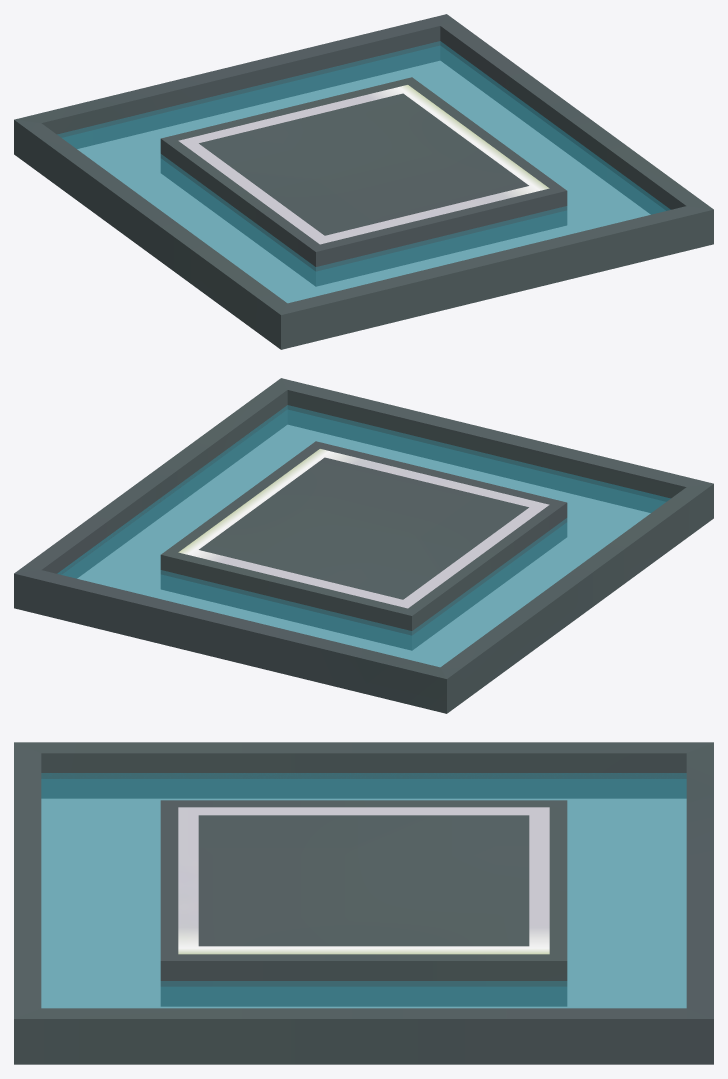
Rendered from lift.glb.
3 renders of one model, top to bottom at view 1: azimuth 30°, elevation 25°; view 2: azimuth 150°, elevation 25°; view 3: azimuth 270°, elevation 25°, orthographic. The views are drawn at different scales.
Visible parts, largest first — view 1: TCV_Lift; view 2: TCV_Lift; view 3: TCV_Lift.
Part boxes in pixels (x1,y1,x2,y2): TCV_Lift: (14, 14, 713, 349); TCV_Lift: (14, 378, 713, 713); TCV_Lift: (14, 742, 713, 1064).
Size of what is drawn, in the model's own units: 2.57 by 0.1971 by 2.75.
3 materials, 2 textured.
